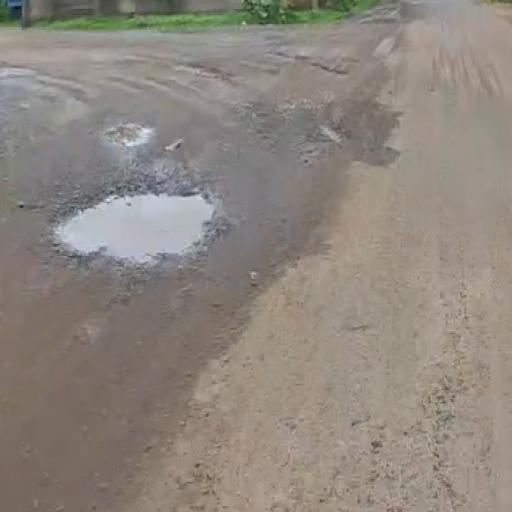pothole: (36, 134, 245, 317)
